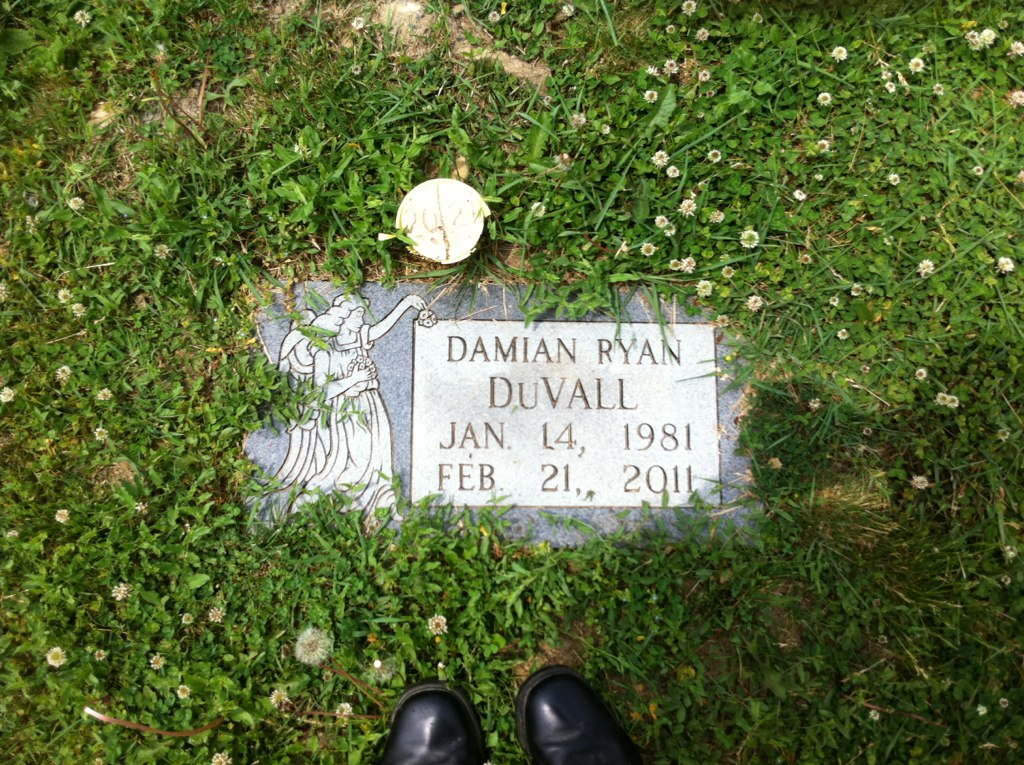flat: (232, 274, 759, 541)
